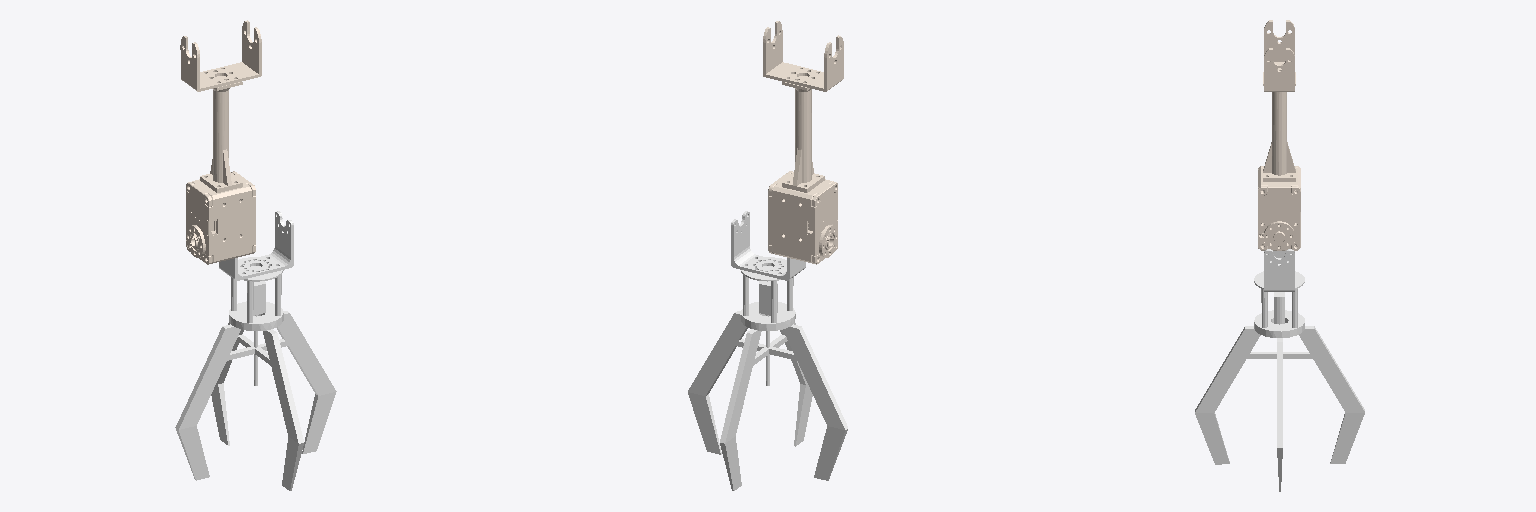
robot.urdf — SkyGrip_URDF:
<?xml version="1.0" encoding="utf-8"?>
<!-- This URDF was automatically created by SolidWorks to URDF Exporter! Originally created by [author] ([email redacted]) 
     Commit Version: 1.6.0-4-g7f85cfe  Build Version: 1.6.7995.38578
     For more information, please see http://wiki.ros.org/sw_urdf_exporter -->
<robot
  name="SkyGrip_URDF">
  <link
    name="base_link">
    <inertial>
      <origin
        xyz="-1.928E-06 0.0086666 0.027403"
        rpy="0 0 0" />
      <mass
        value="1" />
      <inertia
        ixx="0.00409"
        ixy="2.7055E-07"
        ixz="-2.1861E-08"
        iyy="0.0055803"
        iyz="-4.2593E-06"
        izz="0.0094981" />
    </inertial>
    <visual>
      <origin
        xyz="0 0 0"
        rpy="0 0 0" />
      <geometry>
        <mesh
          filename="package://SkyGrip_URDF/meshes/base_link.STL" />
      </geometry>
      <material
        name="">
        <color
          rgba="0.79216 0.81961 0.93333 1" />
      </material>
    </visual>
    <collision>
      <origin
        xyz="0 0 0"
        rpy="0 0 0" />
      <geometry>
        <mesh
          filename="package://SkyGrip_URDF/meshes/base_link.STL" />
      </geometry>
    </collision>
  </link>
  <link
    name="Link_1">
    <inertial>
      <origin
        xyz="-0.0016184 -7.0854E-06 -0.08892"
        rpy="0 0 0" />
      <mass
        value="0.08" />
      <inertia
        ixx="1.7491E-05"
        ixy="-5.233E-09"
        ixz="2.555E-07"
        iyy="2.2905E-05"
        iyz="4.4082E-09"
        izz="1.2229E-05" />
    </inertial>
    <visual>
      <origin
        xyz="0 0 0"
        rpy="0 0 0" />
      <geometry>
        <mesh
          filename="package://SkyGrip_URDF/meshes/Link_1.STL" />
      </geometry>
      <material
        name="">
        <color
          rgba="1 0.94902 0.89804 1" />
      </material>
    </visual>
    <collision>
      <origin
        xyz="0 0 0"
        rpy="0 0 0" />
      <geometry>
        <mesh
          filename="package://SkyGrip_URDF/meshes/Link_1.STL" />
      </geometry>
    </collision>
  </link>
  <joint
    name="Joint_1"
    type="continuous">
    <origin
      xyz="0 -2.5E-05 -0.038"
      rpy="-0.00065513 0 0" />
    <parent
      link="base_link" />
    <child
      link="Link_1" />
    <axis
      xyz="1 0 0" />
    <limit
      lower="-0.8"
      upper="0.8"
      effort="0"
      velocity="0" />
  </joint>
  <link
    name="Link_2">
    <inertial>
      <origin
        xyz="-0.00195 -1.0507E-15 0.079412"
        rpy="0 0 0" />
      <mass
        value="0.105" />
      <inertia
        ixx="4.0466E-05"
        ixy="1.162E-19"
        ixz="-9.7885E-20"
        iyy="4.165E-05"
        iyz="1.7355E-19"
        izz="2.8062E-05" />
    </inertial>
    <visual>
      <origin
        xyz="0 0 0"
        rpy="0 0 0" />
      <geometry>
        <mesh
          filename="package://SkyGrip_URDF/meshes/Link_2.STL" />
      </geometry>
      <material
        name="">
        <color
          rgba="1 1 1 1" />
      </material>
    </visual>
    <collision>
      <origin
        xyz="0 0 0"
        rpy="0 0 0" />
      <geometry>
        <mesh
          filename="package://SkyGrip_URDF/meshes/Link_2.STL" />
      </geometry>
    </collision>
  </link>
  <joint
    name="Joint_2"
    type="continuous">
    <origin
      xyz="0 0 -0.1308"
      rpy="-3.1379 0 0" />
    <parent
      link="Link_1" />
    <child
      link="Link_2" />
    <axis
      xyz="1 0 0" />
    <limit
      lower="-0.8"
      upper="0.8"
      effort="0"
      velocity="0" />
  </joint>
</robot>

--- What the picture shows (computed from the rendered views, not written in the file) ---
Views: 3 orthographic renders of the robot side by side, from view 1: azimuth 30°, elevation 25°; view 2: azimuth 150°, elevation 25°; view 3: azimuth 270°, elevation 25°.
Model SkyGrip_URDF with 3 links and 2 joints (2 continuous), rooted at base_link, posed every joint at zero.
Visible links, largest first — view 1: Link_2, Link_1; view 2: Link_2, Link_1; view 3: Link_2, Link_1.
Boxes of the visible links, x1=… form: Link_2: x1=175, y1=211, x2=336, y2=490; Link_1: x1=180, y1=20, x2=261, y2=264; Link_2: x1=688, y1=211, x2=847, y2=490; Link_1: x1=763, y1=21, x2=843, y2=264; Link_2: x1=1195, y1=249, x2=1364, y2=491; Link_1: x1=1258, y1=20, x2=1300, y2=250.
Size in the robot's own frame: 0.113 by 0.113 by 0.3019 metres.
2 mesh visuals loaded from 3 distinct referenced files (2 binary STL); not drawn: 1 (reference not matched to a file when rendering).